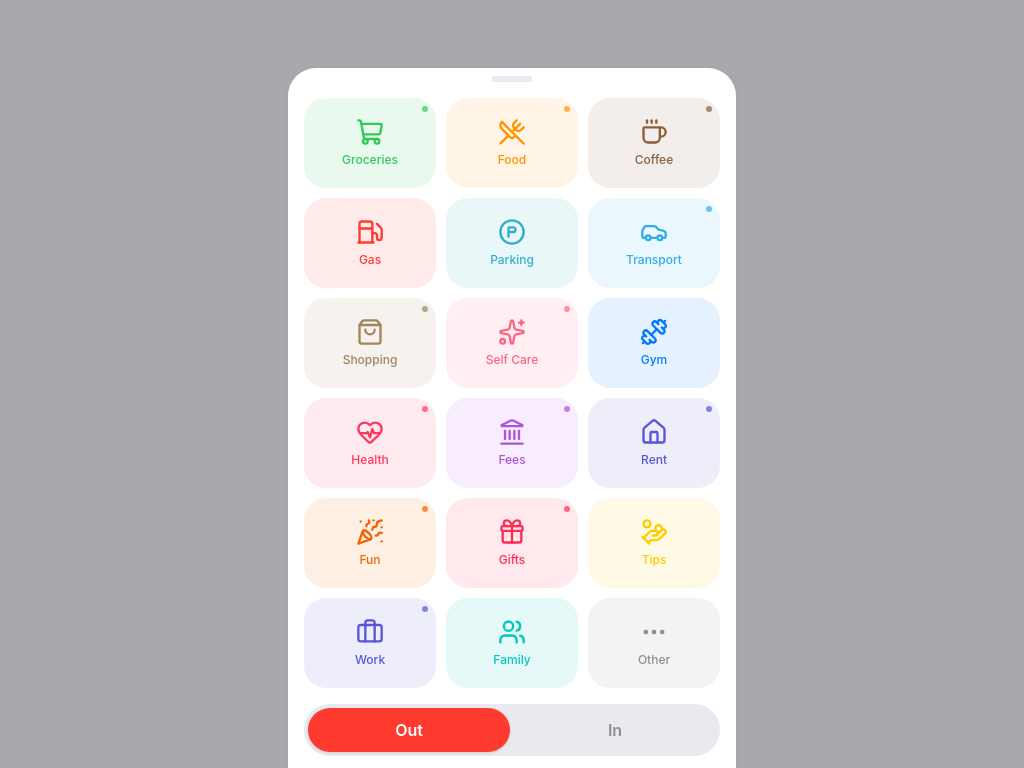
CategorySheet › can go back from the subcategory step to the grid
Click the button "Health": (370, 443) [304, 398, 436, 488]
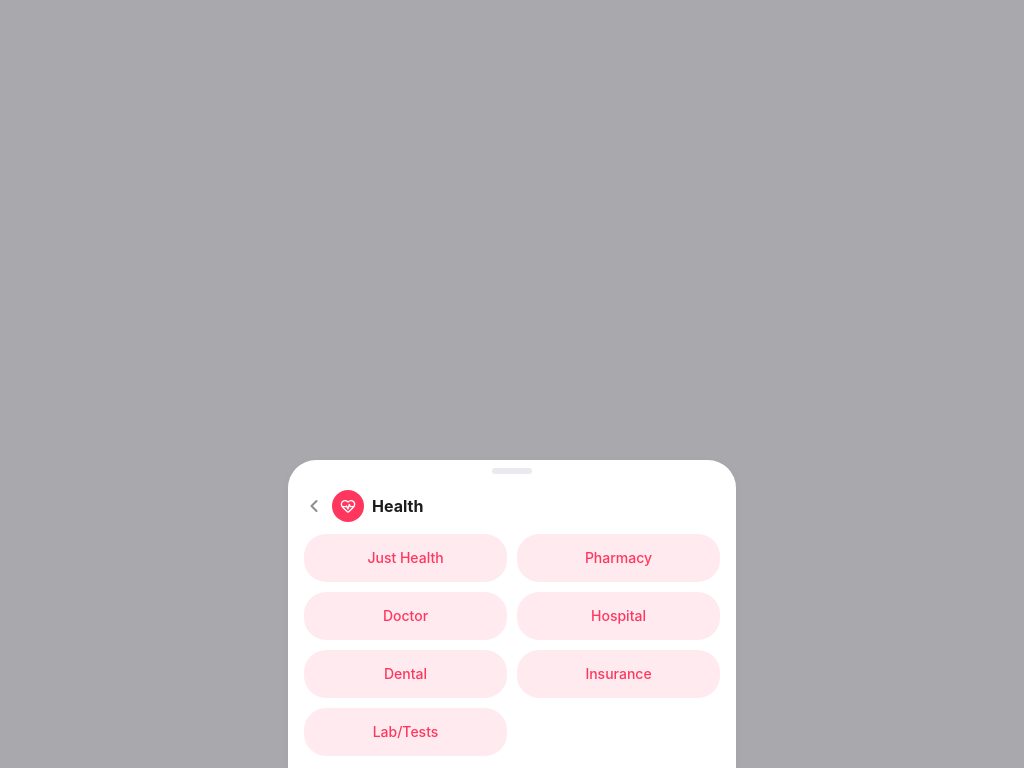
Click the button named "Back to categories": (314, 506) [296, 488, 332, 524]
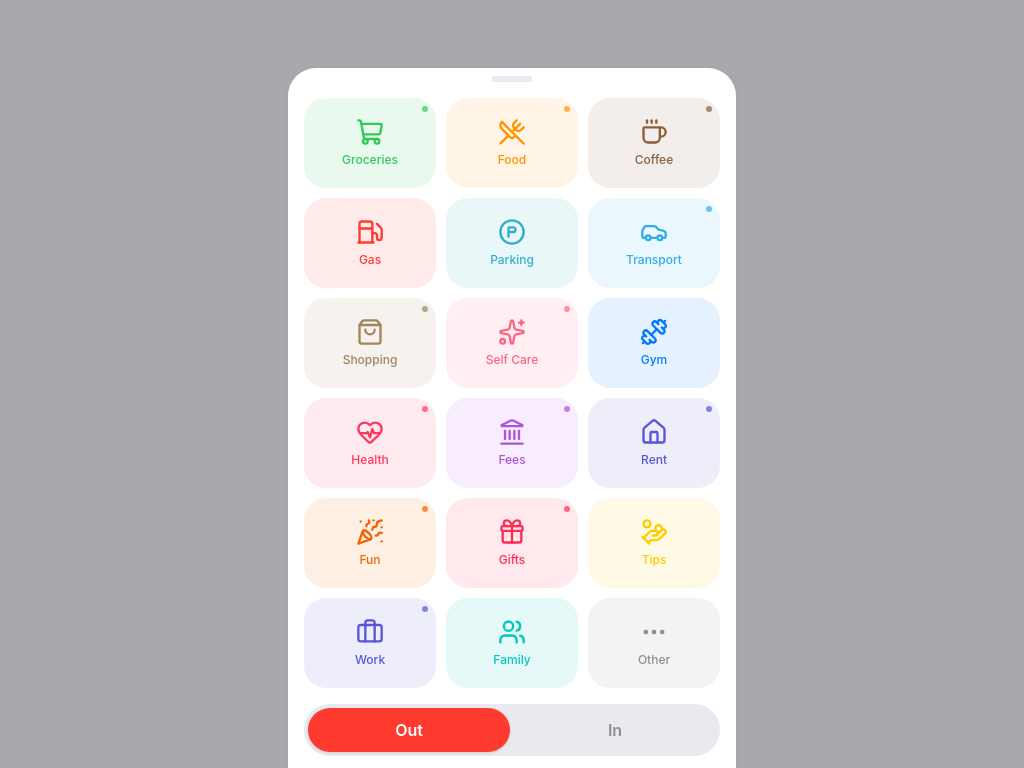
Result: the button "Out" is shown at [308, 708, 510, 752]
